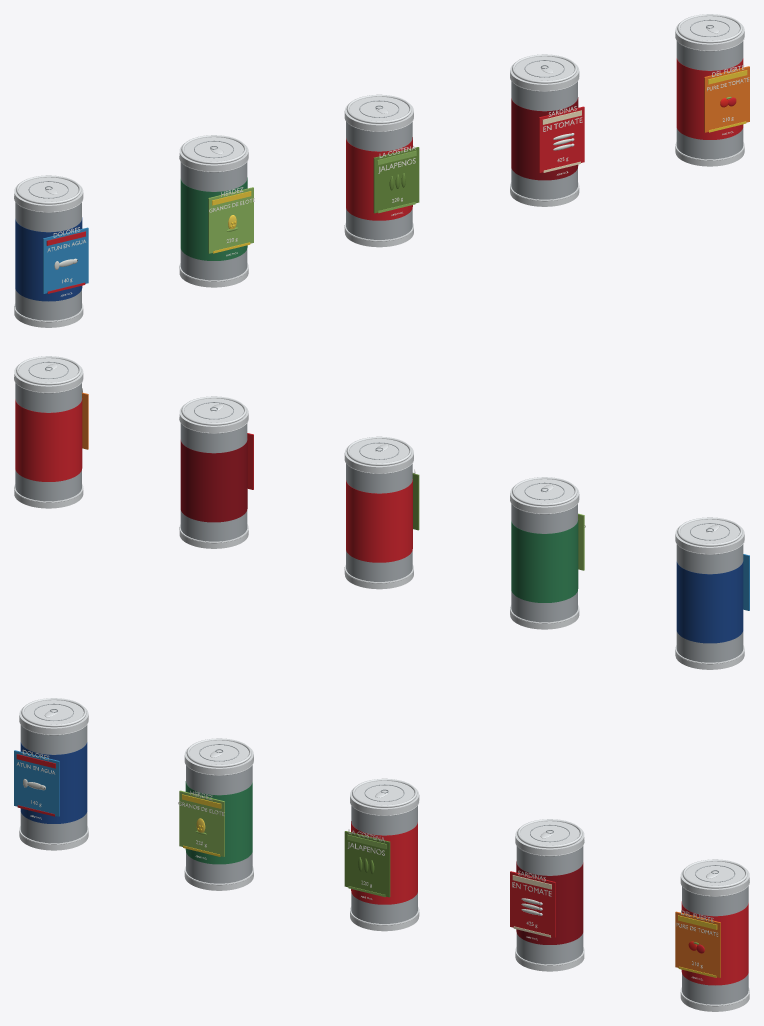
The model's file is enlatados.glb.
3 renders of one model, top to bottom at view 1: azimuth 30°, elevation 25°; view 2: azimuth 150°, elevation 25°; view 3: azimuth 330°, elevation 25°, orthographic.
Visible parts, largest first — view 1: Elote_Herdez_Cuerpo_metalico, Pure_DelFuerte_Cuerpo_metalico, Sardinas_Tomate_Cuerpo_metalico, Atun_Dolores_Cuerpo_metalico, Chiles_LaCostena_Cuerpo_metalico, Elote_Herdez_Etiqueta_envolvente, Pure_DelFuerte_Etiqueta_envolvente, Atun_Dolores_Etiqueta_envolvente, Sardinas_Tomate_Etiqueta_envolvente, Chiles_LaCostena_Etiqueta_envolvente, Chiles_LaCostena_Panel_frontal, Elote_Herdez_Panel_frontal (+18 smaller); view 2: Sardinas_Tomate_Etiqueta_envolvente, Atun_Dolores_Etiqueta_envolvente, Pure_DelFuerte_Etiqueta_envolvente, Elote_Herdez_Etiqueta_envolvente, Chiles_LaCostena_Etiqueta_envolvente, Atun_Dolores_Cuerpo_metalico, Sardinas_Tomate_Cuerpo_metalico, Chiles_LaCostena_Cuerpo_metalico, Elote_Herdez_Cuerpo_metalico, Pure_DelFuerte_Cuerpo_metalico, Elote_Herdez_Tapa_Disco, Pure_DelFuerte_Tapa_Disco (+13 smaller); view 3: Sardinas_Tomate_Cuerpo_metalico, Atun_Dolores_Cuerpo_metalico, Elote_Herdez_Cuerpo_metalico, Pure_DelFuerte_Cuerpo_metalico, Chiles_LaCostena_Cuerpo_metalico, Sardinas_Tomate_Etiqueta_envolvente, Atun_Dolores_Etiqueta_envolvente, Elote_Herdez_Etiqueta_envolvente, Chiles_LaCostena_Etiqueta_envolvente, Pure_DelFuerte_Etiqueta_envolvente, Chiles_LaCostena_Panel_frontal, Elote_Herdez_Panel_frontal (+18 smaller).
Boxes of the visible parts, x1=… form: Elote_Herdez_Cuerpo_metalico: x1=180, y1=162, x2=247, y2=280; Pure_DelFuerte_Cuerpo_metalico: x1=676, y1=41, x2=743, y2=159; Sardinas_Tomate_Cuerpo_metalico: x1=511, y1=81, x2=577, y2=199; Atun_Dolores_Cuerpo_metalico: x1=15, y1=202, x2=81, y2=320; Chiles_LaCostena_Cuerpo_metalico: x1=346, y1=121, x2=412, y2=239; Elote_Herdez_Etiqueta_envolvente: x1=180, y1=177, x2=247, y2=260; Pure_DelFuerte_Etiqueta_envolvente: x1=676, y1=58, x2=743, y2=139; Atun_Dolores_Etiqueta_envolvente: x1=15, y1=217, x2=82, y2=301; Sardinas_Tomate_Etiqueta_envolvente: x1=511, y1=97, x2=578, y2=180; Chiles_LaCostena_Etiqueta_envolvente: x1=346, y1=137, x2=412, y2=220; Chiles_LaCostena_Panel_frontal: x1=373, y1=147, x2=419, y2=213; Elote_Herdez_Panel_frontal: x1=208, y1=187, x2=253, y2=253; Sardinas_Tomate_Etiqueta_envolvente: x1=180, y1=439, x2=247, y2=522; Atun_Dolores_Etiqueta_envolvente: x1=676, y1=561, x2=743, y2=643; Pure_DelFuerte_Etiqueta_envolvente: x1=15, y1=398, x2=82, y2=481; Elote_Herdez_Etiqueta_envolvente: x1=511, y1=520, x2=578, y2=602; Chiles_LaCostena_Etiqueta_envolvente: x1=346, y1=479, x2=412, y2=562; Atun_Dolores_Cuerpo_metalico: x1=676, y1=544, x2=743, y2=662; Sardinas_Tomate_Cuerpo_metalico: x1=180, y1=423, x2=247, y2=541; Chiles_LaCostena_Cuerpo_metalico: x1=346, y1=463, x2=412, y2=581; Elote_Herdez_Cuerpo_metalico: x1=511, y1=504, x2=577, y2=622; Pure_DelFuerte_Cuerpo_metalico: x1=15, y1=383, x2=81, y2=501; Elote_Herdez_Tapa_Disco: x1=514, y1=479, x2=574, y2=503; Pure_DelFuerte_Tapa_Disco: x1=19, y1=358, x2=78, y2=382; Sardinas_Tomate_Cuerpo_metalico: x1=516, y1=846, x2=583, y2=964; Atun_Dolores_Cuerpo_metalico: x1=20, y1=725, x2=87, y2=843; Elote_Herdez_Cuerpo_metalico: x1=186, y1=765, x2=252, y2=883; Pure_DelFuerte_Cuerpo_metalico: x1=682, y1=886, x2=748, y2=1004; Chiles_LaCostena_Cuerpo_metalico: x1=351, y1=805, x2=417, y2=923; Sardinas_Tomate_Etiqueta_envolvente: x1=516, y1=861, x2=583, y2=944; Atun_Dolores_Etiqueta_envolvente: x1=20, y1=742, x2=87, y2=823; Elote_Herdez_Etiqueta_envolvente: x1=185, y1=781, x2=252, y2=864; Chiles_LaCostena_Etiqueta_envolvente: x1=351, y1=821, x2=417, y2=904; Pure_DelFuerte_Etiqueta_envolvente: x1=681, y1=901, x2=748, y2=985; Chiles_LaCostena_Panel_frontal: x1=344, y1=831, x2=390, y2=897; Elote_Herdez_Panel_frontal: x1=179, y1=790, x2=224, y2=856.
Size of the model in its own units: 8.51 by 1.43 by 0.748.
